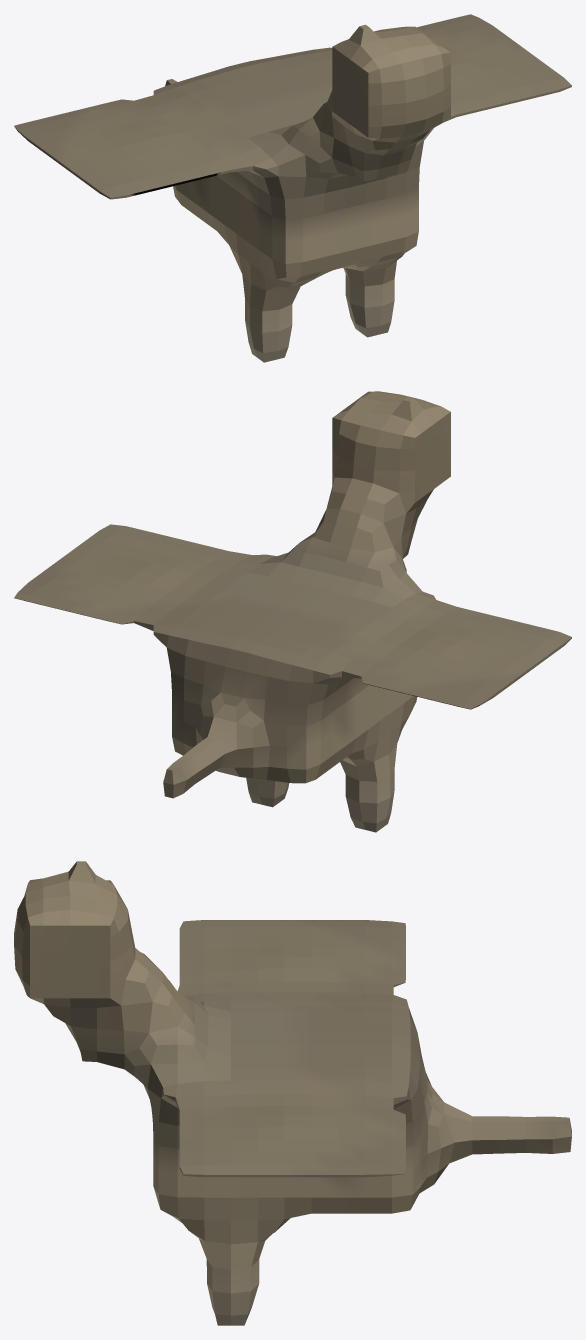
Rendered from fireDragon.glb.
3 renders of one model, top to bottom at view 1: azimuth 30°, elevation 25°; view 2: azimuth 150°, elevation 25°; view 3: azimuth 270°, elevation 25°, orthographic. The views are drawn at different scales.
Visible parts, largest first — view 1: geometry_0; view 2: geometry_0; view 3: geometry_0.
Part boxes in pixels (left/top/right/bottom): geometry_0: left=14, top=14, right=571, bottom=362; geometry_0: left=14, top=391, right=571, bottom=832; geometry_0: left=14, top=861, right=571, bottom=1325.
Bounding box in the file's own units: 1.25 × 0.9519 × 1.16.
1 material, 1 textured.
